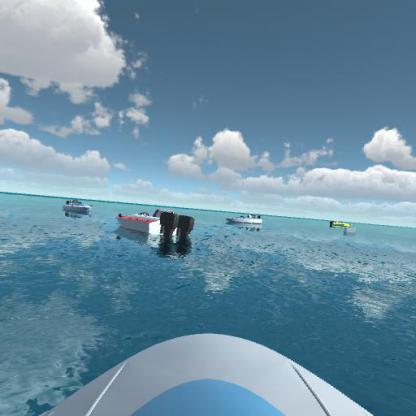usv1: (58, 192, 95, 221), (225, 209, 267, 231)
usv2: (328, 215, 355, 232)
usv3: (114, 200, 195, 244)
